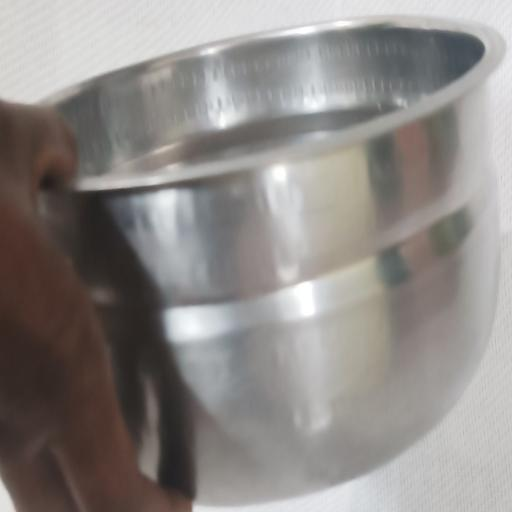vessel: (41, 17, 503, 504)
